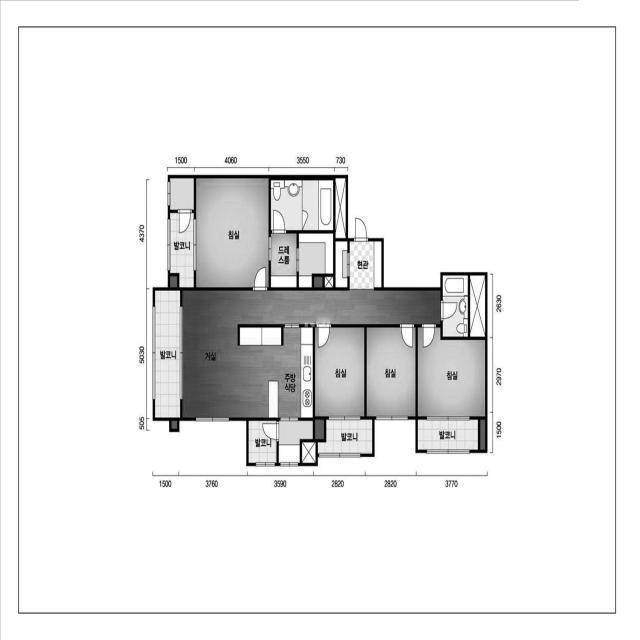background: (0, 0, 640, 640)
space_balconi: (155, 291, 180, 418), (318, 419, 372, 454), (418, 420, 478, 450), (170, 213, 194, 287), (248, 421, 276, 463)
space_bedroom: (196, 178, 269, 287), (418, 327, 485, 416), (315, 327, 364, 416), (367, 328, 415, 417)
space_dressroom: (299, 233, 333, 287), (271, 234, 297, 287)
space_front: (349, 241, 382, 289)
space_kitchen: (239, 328, 313, 418)
space_living_room: (182, 290, 441, 418)
space_other: (279, 421, 313, 463), (470, 275, 485, 337), (170, 178, 194, 210), (335, 178, 346, 238), (335, 241, 347, 287), (302, 442, 316, 463), (315, 420, 324, 439), (480, 420, 485, 450), (325, 277, 333, 288), (314, 277, 322, 287), (170, 276, 177, 287)
space_toilet: (271, 180, 333, 230), (443, 275, 468, 337)
